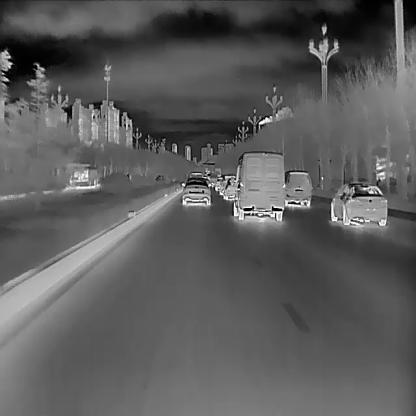car: (231, 150, 284, 221), (330, 182, 388, 224), (283, 169, 311, 206), (180, 178, 211, 206), (219, 174, 238, 196), (224, 176, 237, 198), (187, 172, 202, 181), (215, 176, 223, 191)
